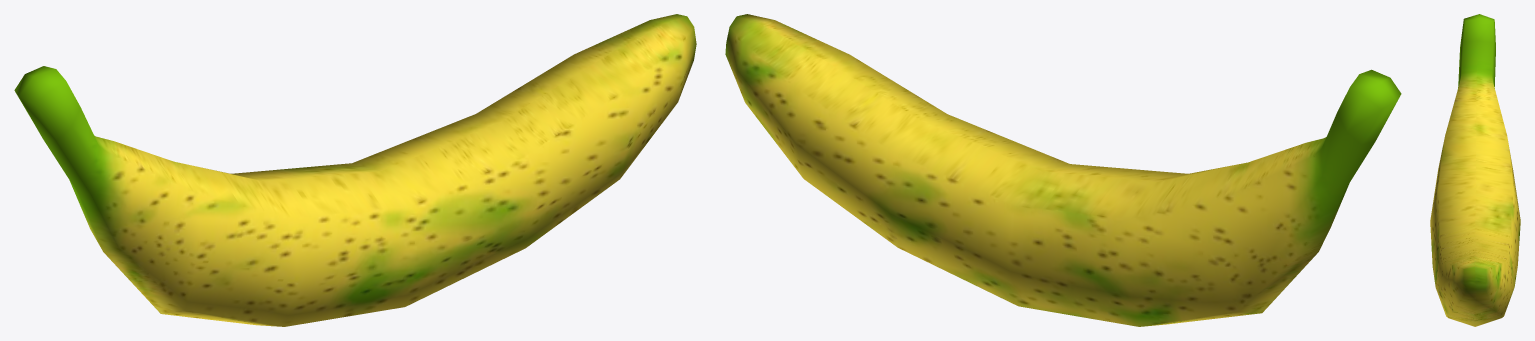
Rendered from banana-webp.glb.
3 views of the same model, side by side, from view 1: azimuth 30°, elevation 25°; view 2: azimuth 150°, elevation 25°; view 3: azimuth 270°, elevation 25° (orthographic). The views are drawn at different scales.
Parts seen in each view (by area): view 1: banana; view 2: banana; view 3: banana.
Part boxes in pixels (bbox=[...]): banana: bbox=[14, 14, 696, 326]; banana: bbox=[725, 14, 1401, 326]; banana: bbox=[1430, 14, 1520, 326].
Size of the model in its own units: 0.7658 by 0.3405 by 0.146.
Materials: 1 (1 with a texture image).
